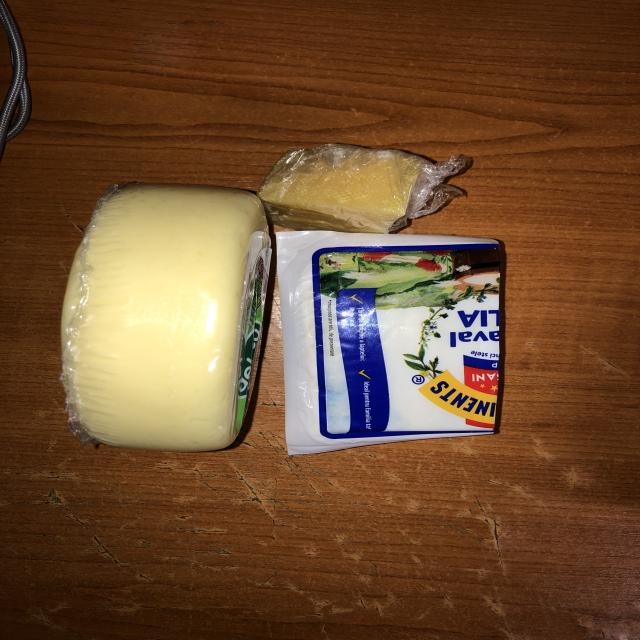cheese: (58, 180, 269, 453), (278, 231, 504, 433), (260, 146, 427, 232)
